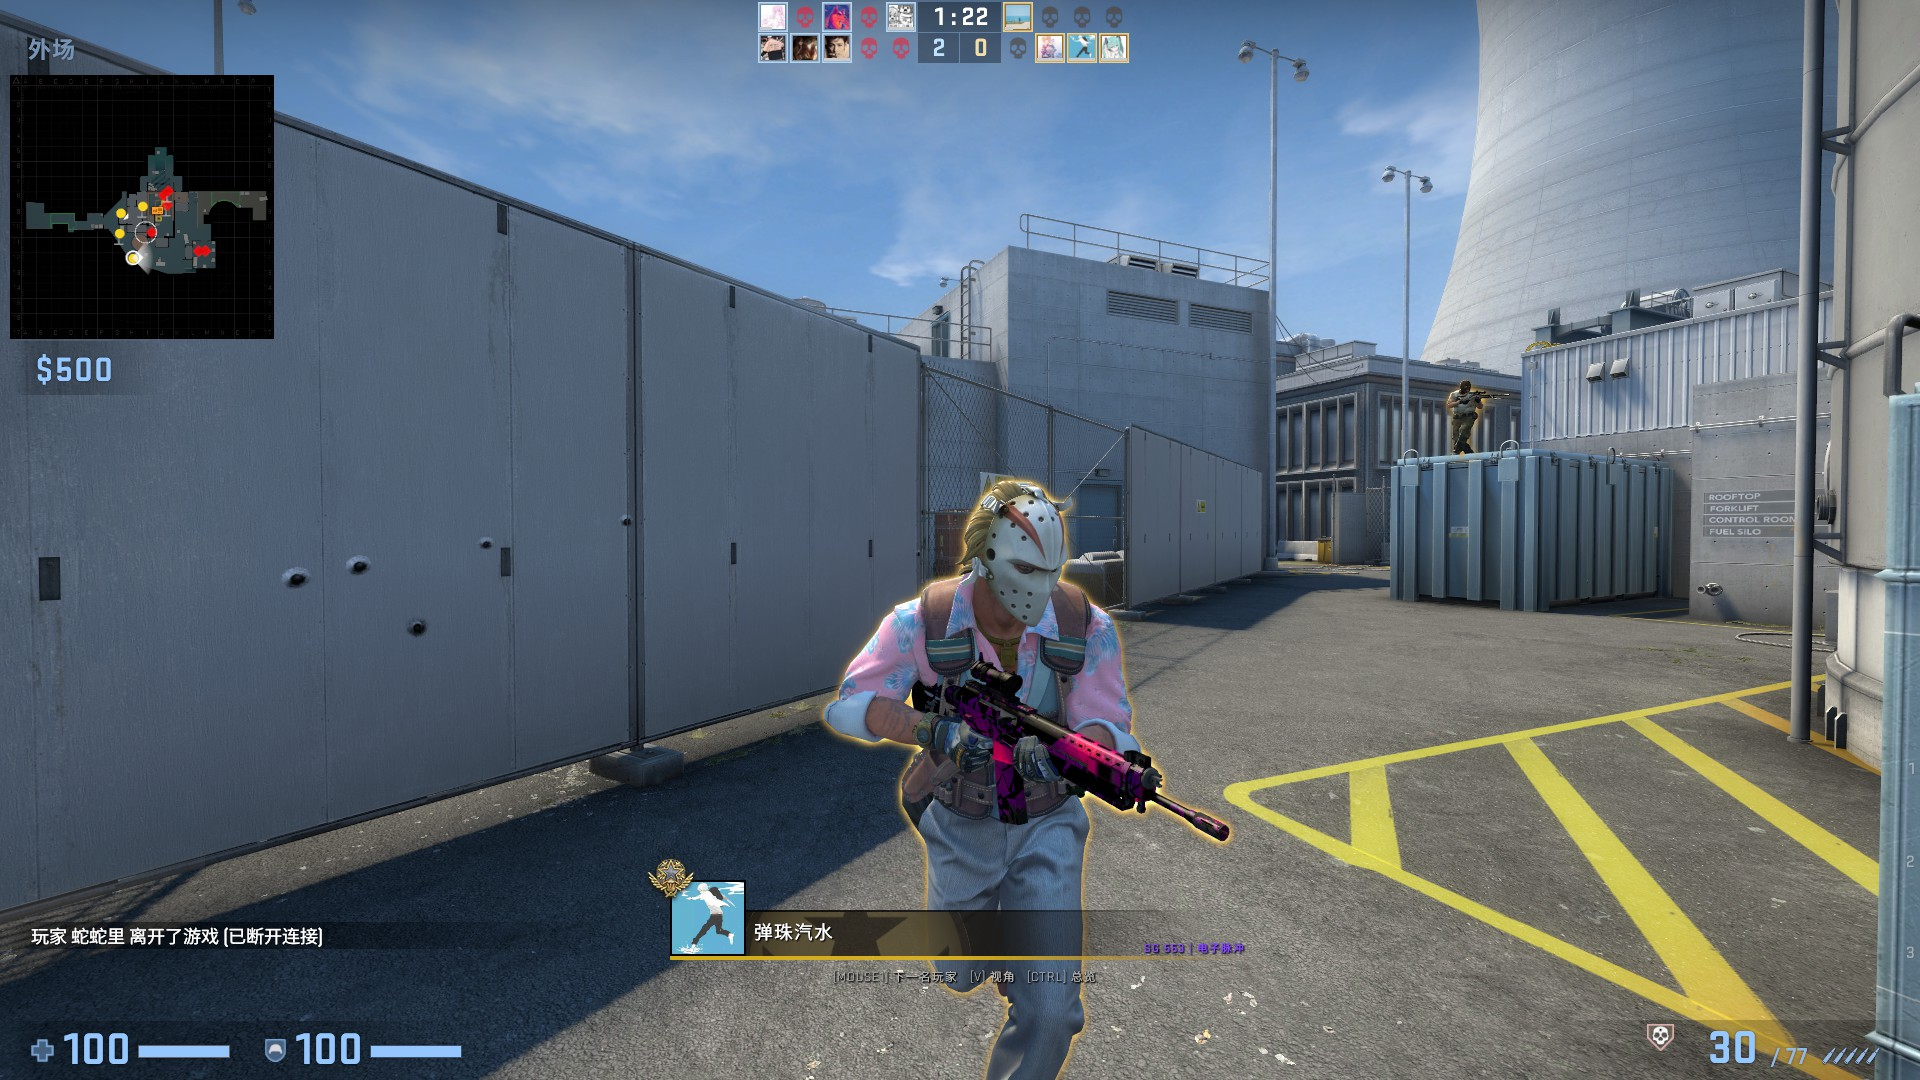head: (957, 478, 1079, 624), (1456, 378, 1472, 394)
